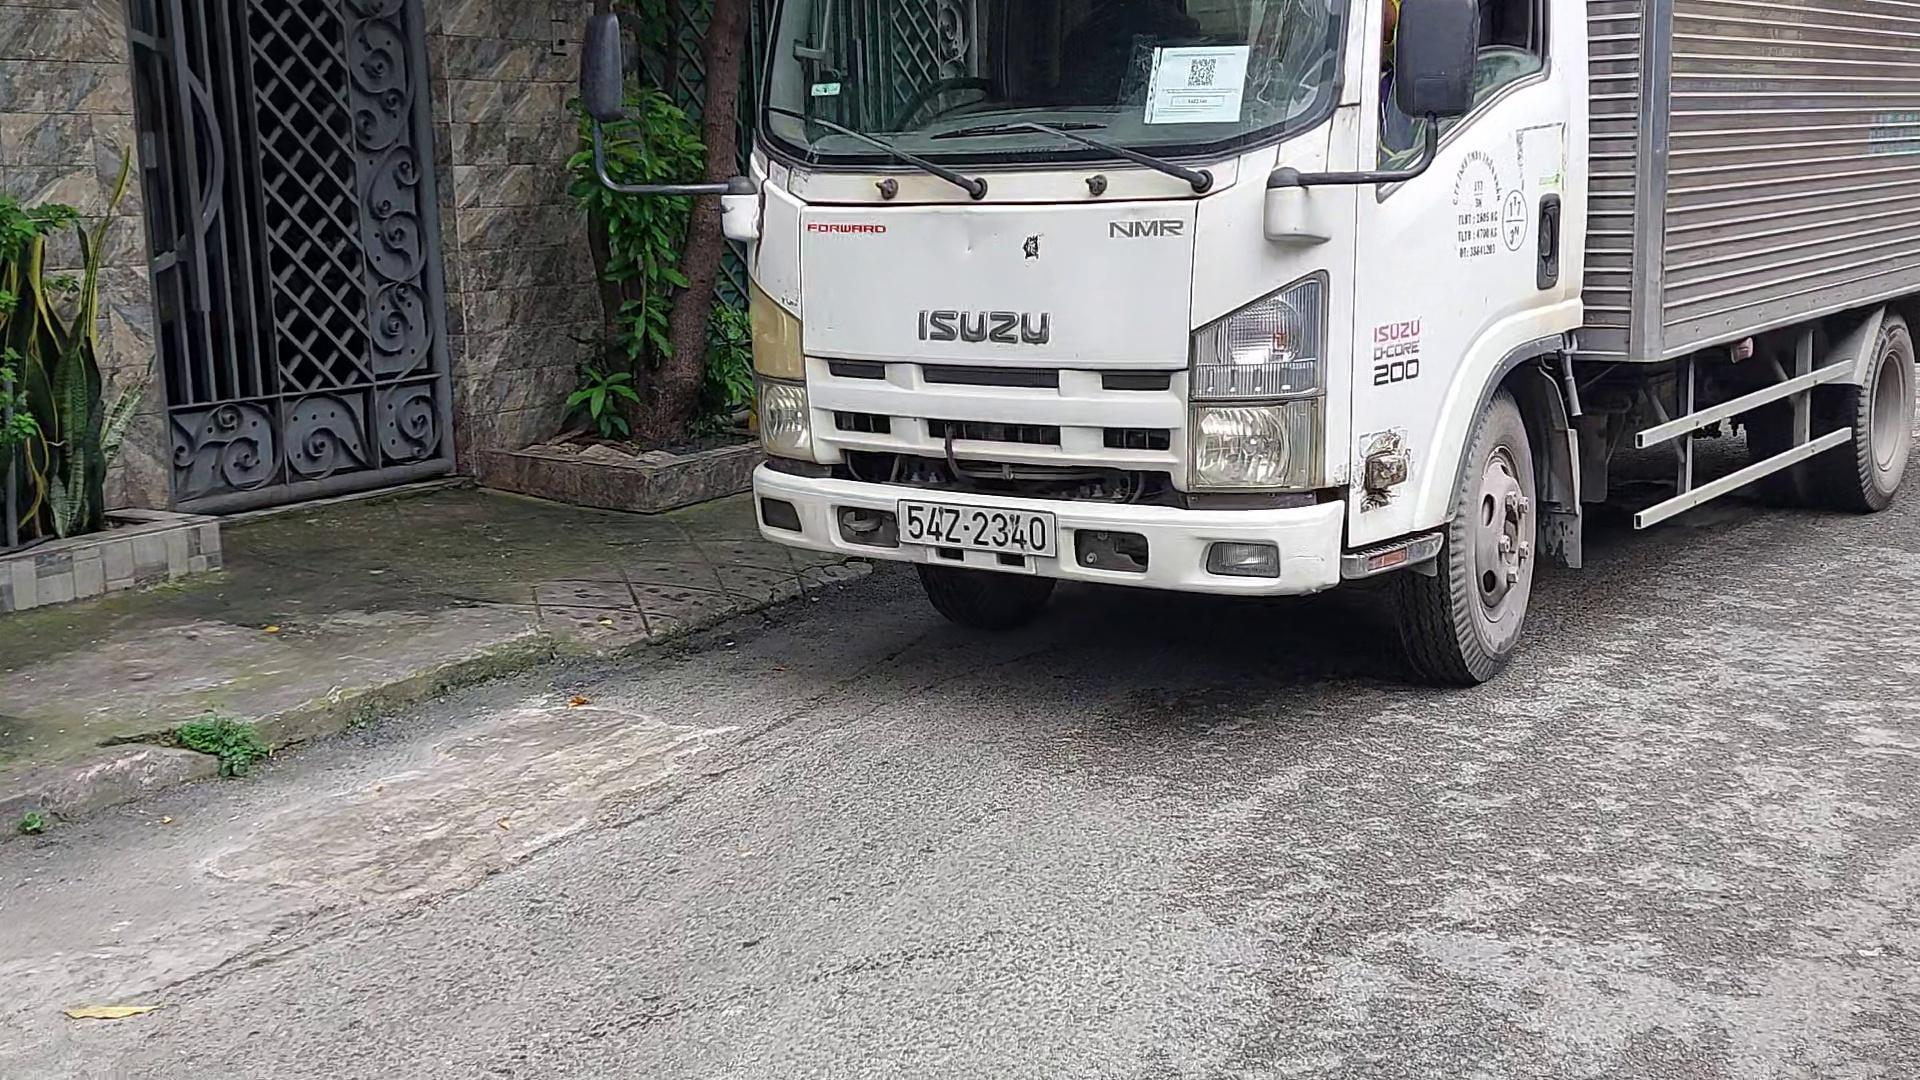numplate: (890, 493, 1080, 567)
